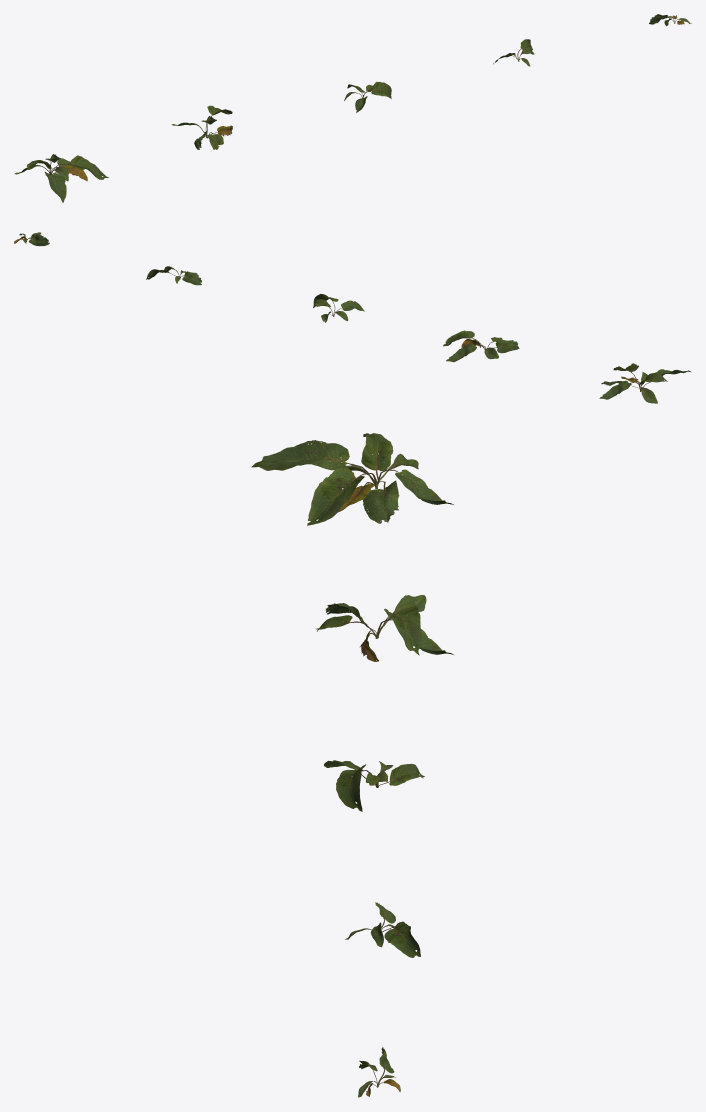
The model's file is polyhaven-weed-plant-02.glb.
The picture shows the model from 3 angles, top to bottom: view 1: azimuth 30°, elevation 25°; view 2: azimuth 150°, elevation 25°; view 3: azimuth 270°, elevation 25°; orthographic projection. The views are drawn at different scales.
Parts seen in each view (by area): view 1: weed_plant_02_a_LOD0_0, weed_plant_02_b_LOD0_0, weed_plant_02_c_LOD0_0, weed_plant_02_d_LOD0_0; view 2: weed_plant_02_a_LOD0_0, weed_plant_02_b_LOD0_0, weed_plant_02_c_LOD0_0, weed_plant_02_d_LOD0_0, weed_plant_02_e_LOD0_0; view 3: weed_plant_02_a_LOD0_0, weed_plant_02_b_LOD0_0, weed_plant_02_c_LOD0_0, weed_plant_02_d_LOD0_0.
Boxes of the visible parts, <box> form: weed_plant_02_a_LOD0_0: <box>14,154,108,202</box>; weed_plant_02_b_LOD0_0: <box>171,105,232,149</box>; weed_plant_02_c_LOD0_0: <box>344,81,391,112</box>; weed_plant_02_d_LOD0_0: <box>493,39,534,66</box>; weed_plant_02_a_LOD0_0: <box>599,363,690,403</box>; weed_plant_02_b_LOD0_0: <box>443,330,519,362</box>; weed_plant_02_c_LOD0_0: <box>313,294,364,322</box>; weed_plant_02_d_LOD0_0: <box>146,266,201,285</box>; weed_plant_02_e_LOD0_0: <box>14,232,49,246</box>; weed_plant_02_a_LOD0_0: <box>251,433,454,525</box>; weed_plant_02_b_LOD0_0: <box>316,595,453,661</box>; weed_plant_02_c_LOD0_0: <box>324,760,424,811</box>; weed_plant_02_d_LOD0_0: <box>345,902,420,957</box>.
Size of the model in its own units: 2.13 by 0.0751 by 0.2909.
1 material, 1 textured.
